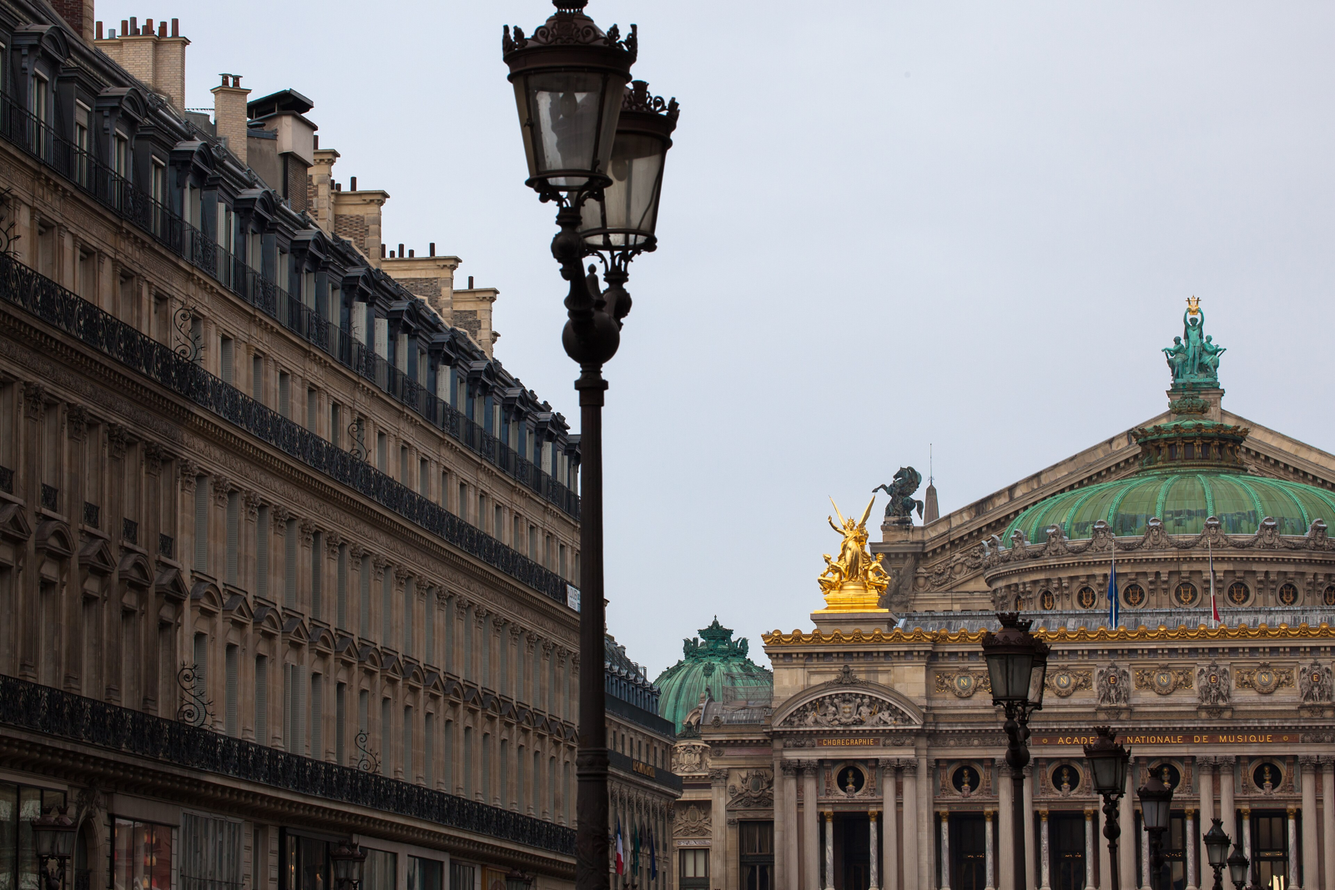fachada: (2, 2, 682, 890), (774, 196, 1335, 890), (642, 596, 778, 890)
poste: (482, 0, 670, 890), (972, 590, 1066, 890), (1072, 719, 1135, 890), (1139, 761, 1181, 890), (1208, 813, 1245, 890), (1233, 826, 1268, 890)
